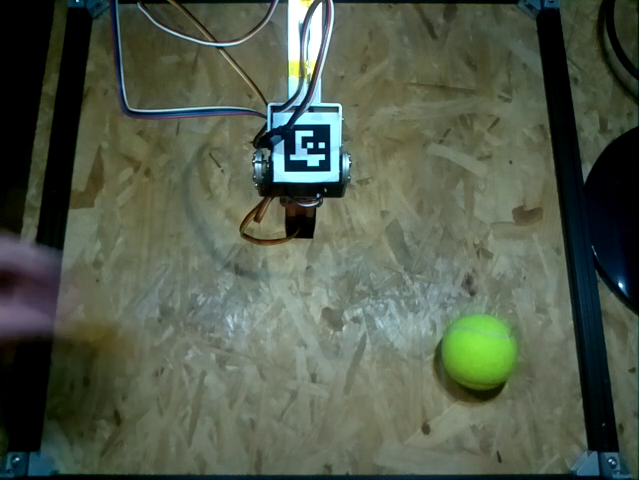tennis_ball: (439, 311, 518, 391)
